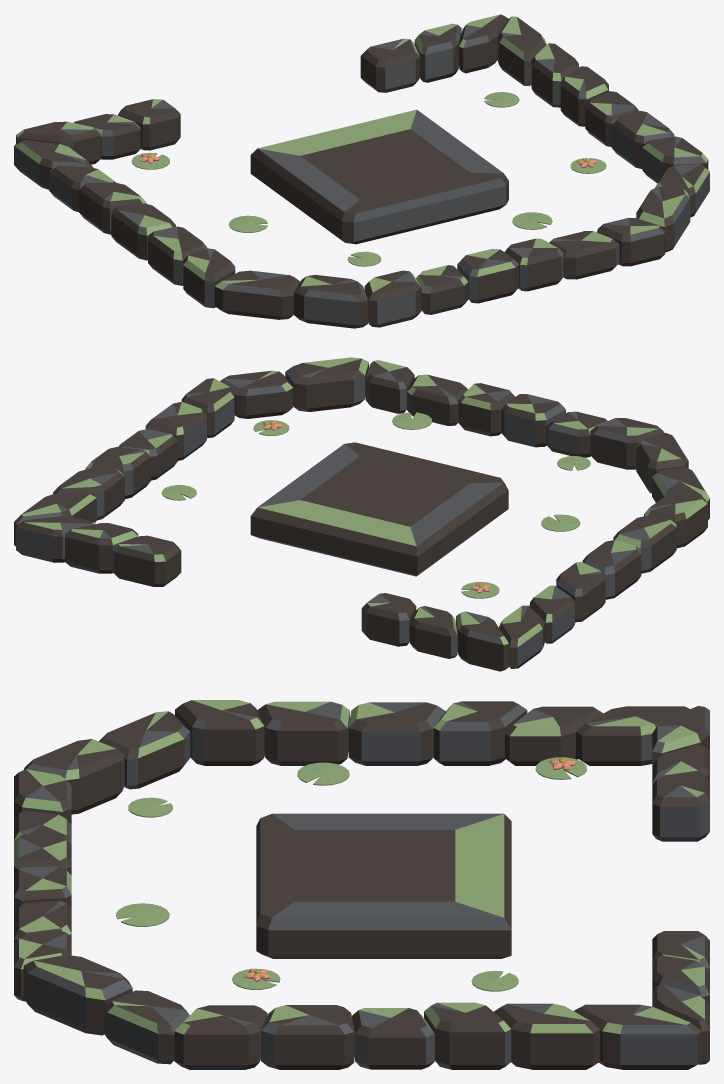
File: waterfallBasin.glb
3 views of the same model, one above another, from view 1: azimuth 30°, elevation 25°; view 2: azimuth 150°, elevation 25°; view 3: azimuth 270°, elevation 25° (orthographic). The views are drawn at different scales.
Parts seen in each view (by area): view 1: waterfallBasin; view 2: waterfallBasin; view 3: waterfallBasin.
Part boxes in pixels (bbox=[...]): waterfallBasin: bbox=[14, 14, 709, 328]; waterfallBasin: bbox=[14, 357, 709, 671]; waterfallBasin: bbox=[14, 700, 709, 1069].
Size of the model in its own units: 7.05 by 0.4727 by 6.32.
Materials: 1 (1 with a texture image).
